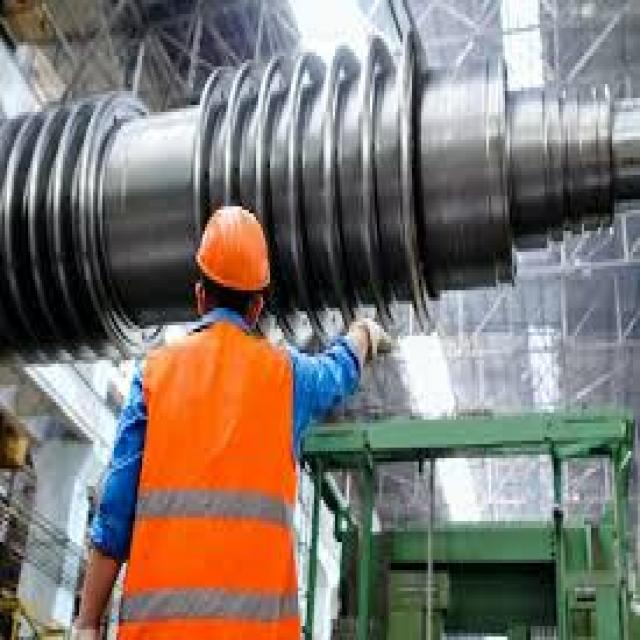Reflective-Jacket: (104, 318, 323, 637)
Safety-Helmet: (181, 192, 284, 315)
